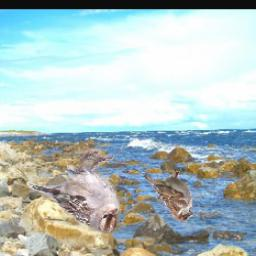Sparrow: (26, 150, 122, 234), (144, 170, 194, 222)
